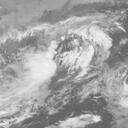cyclone: (22, 22, 112, 87)
